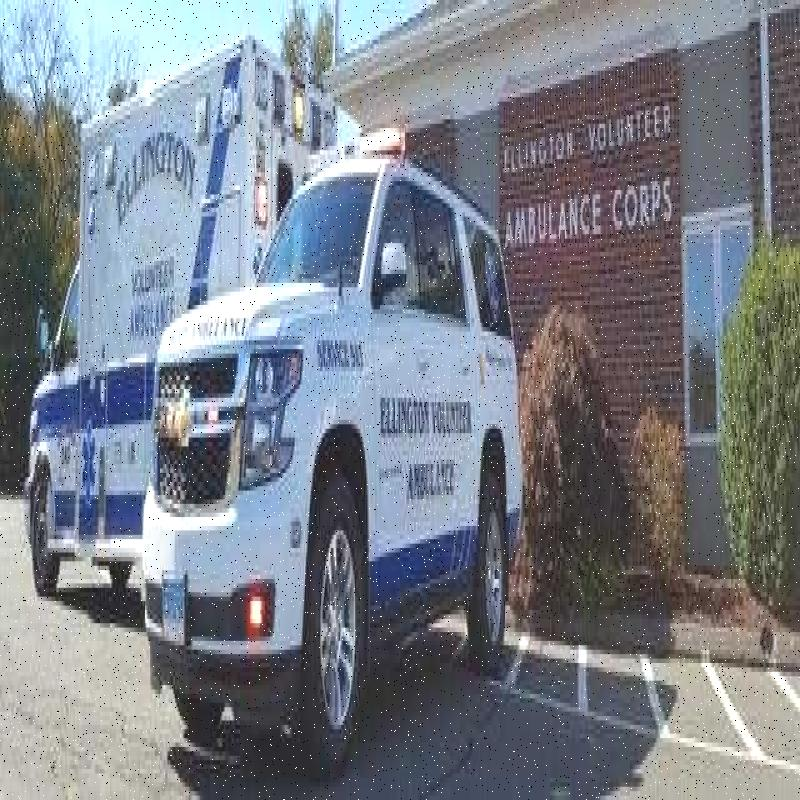AmbulanceSiren: (298, 122, 415, 182)
